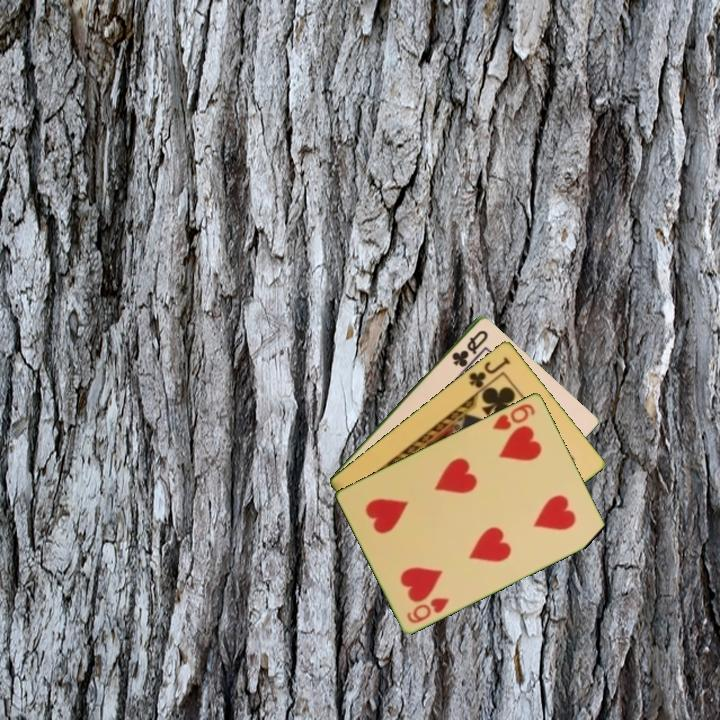6h: (489, 400, 538, 433), (403, 594, 452, 626)
Jc: (465, 353, 513, 396)
Qc: (448, 326, 491, 370)
